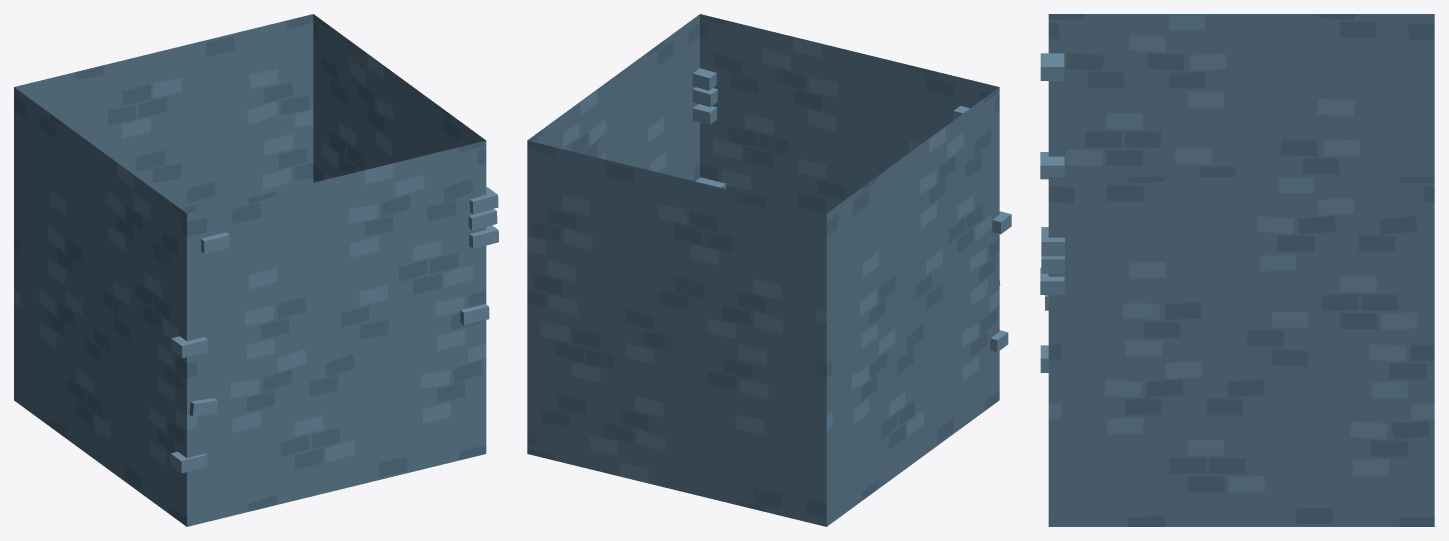
File: Blue_Building_geo.fbx
3 renders of one model, left to right at view 1: azimuth 30°, elevation 25°; view 2: azimuth 150°, elevation 25°; view 3: azimuth 270°, elevation 25°, orthographic. The views are drawn at different scales.
Visible parts, largest first — view 1: Blue_Building_geo; view 2: Blue_Building_geo; view 3: Blue_Building_geo.
Boxes of the visible parts, box(x1,y1,x2,y2) form: Blue_Building_geo: box(14, 14, 498, 526); Blue_Building_geo: box(527, 14, 1011, 526); Blue_Building_geo: box(1040, 14, 1434, 526).
Bounding box in the file's own units: 10.71 × 10.12 × 10.33.
1 material, 1 textured.
